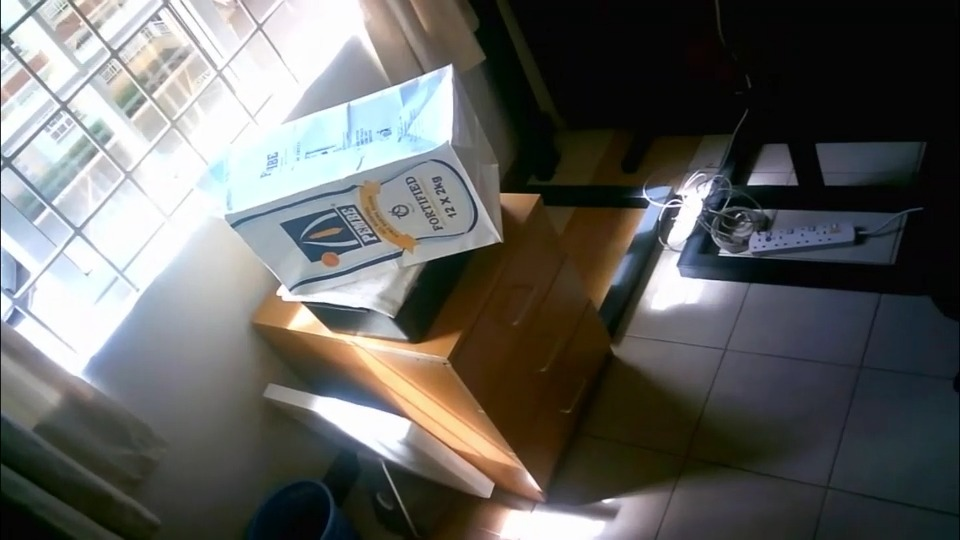wheat_flour_blue_label: (224, 64, 502, 292)
